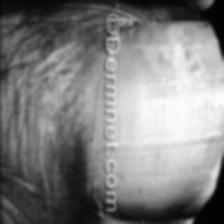Toxin: (134, 22, 216, 124)
